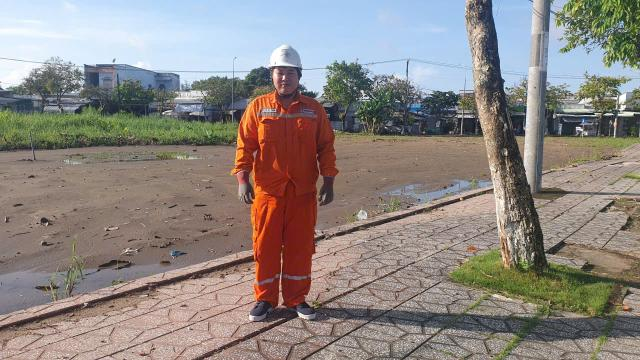gloves: (232, 167, 260, 212), (317, 171, 337, 212)
helmet: (266, 37, 306, 76)
shoes: (284, 296, 319, 324), (243, 295, 276, 324)
